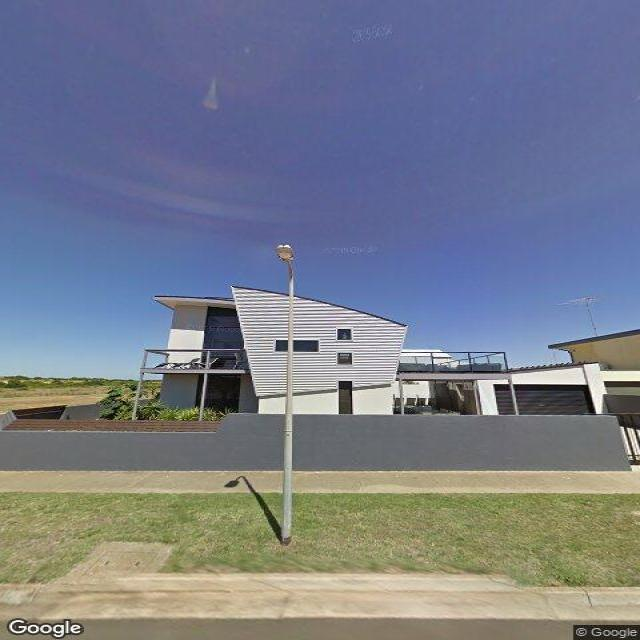mid mount suitable pole: (275, 243, 299, 545)
steel-pole: (280, 268, 297, 542)
streetlight: (275, 244, 297, 268)
